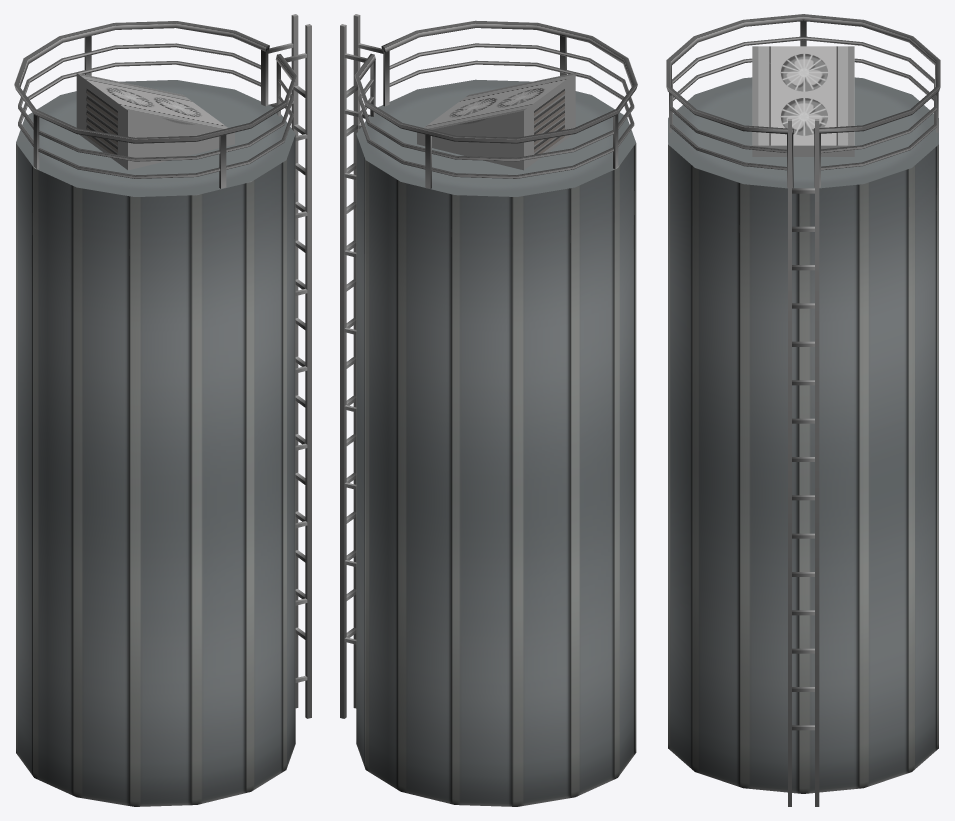
Rendered from industrial_silos_05.fbx.
3 renders of one model, left to right at view 1: azimuth 30°, elevation 25°; view 2: azimuth 150°, elevation 25°; view 3: azimuth 270°, elevation 25°, orthographic.
Parts seen in each view (by area): view 1: ind:silos_05; view 2: ind:silos_05; view 3: ind:silos_05.
Part boxes in pixels (x1,y1,x2,y2): ind:silos_05: [14, 14, 311, 806]; ind:silos_05: [340, 14, 637, 806]; ind:silos_05: [666, 14, 940, 806].
Bounding box in the file's own units: 3.67 × 8.94 × 3.24.
